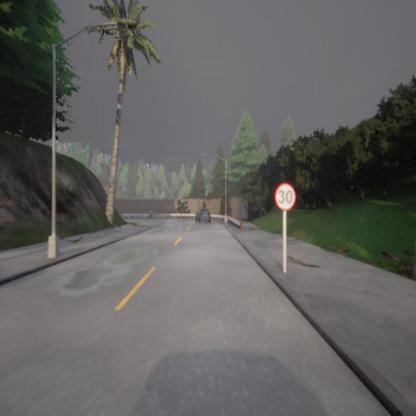traffic_sign_30: (274, 183, 296, 210)
vehicle: (195, 209, 211, 224)
